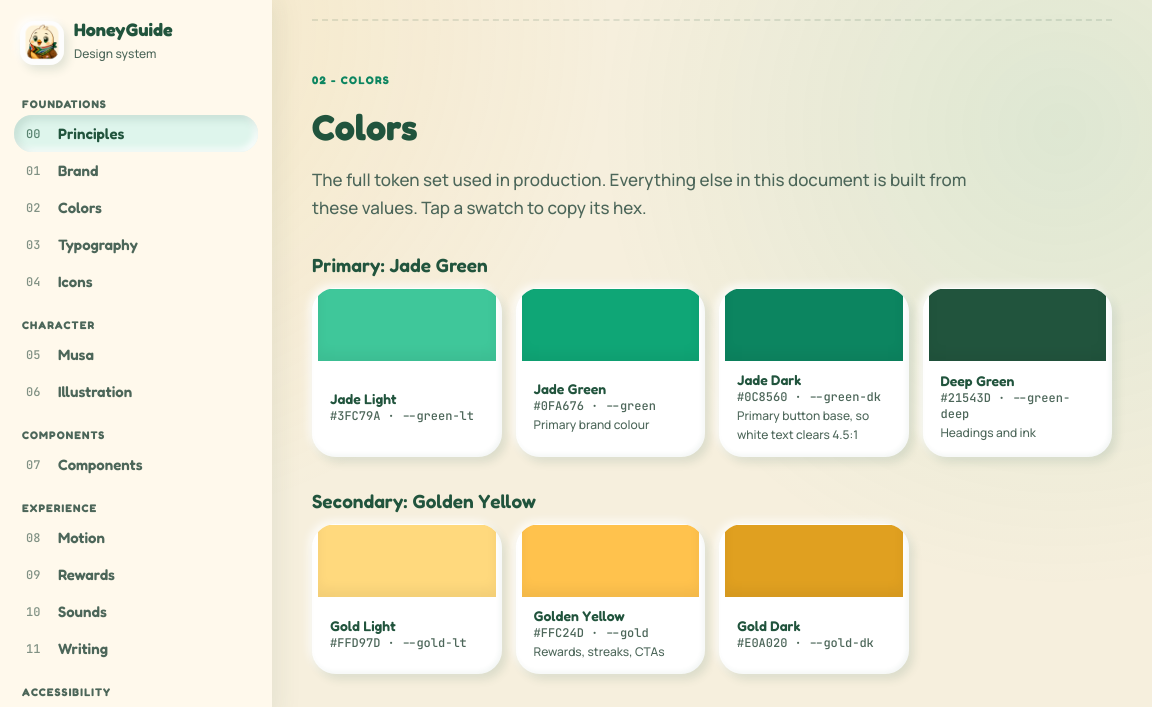
Test: colour swatches › is honest when the clipboard is blocked
(page scrolled)
Click the button "Jade Green #0FA676 · --green Primary brand colour" at {"x": 610, "y": 372}, box [516,288,705,457]
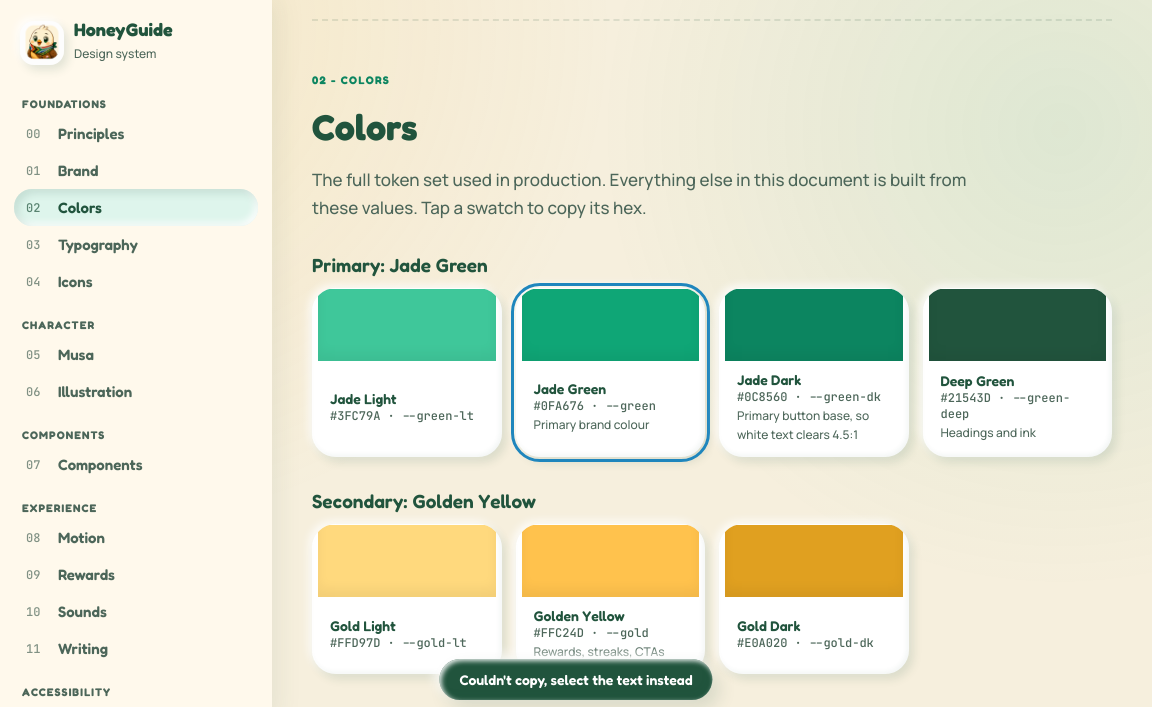
Now the text "Couldn't copy, select the text instead" is shown, box [439,659,713,700]
